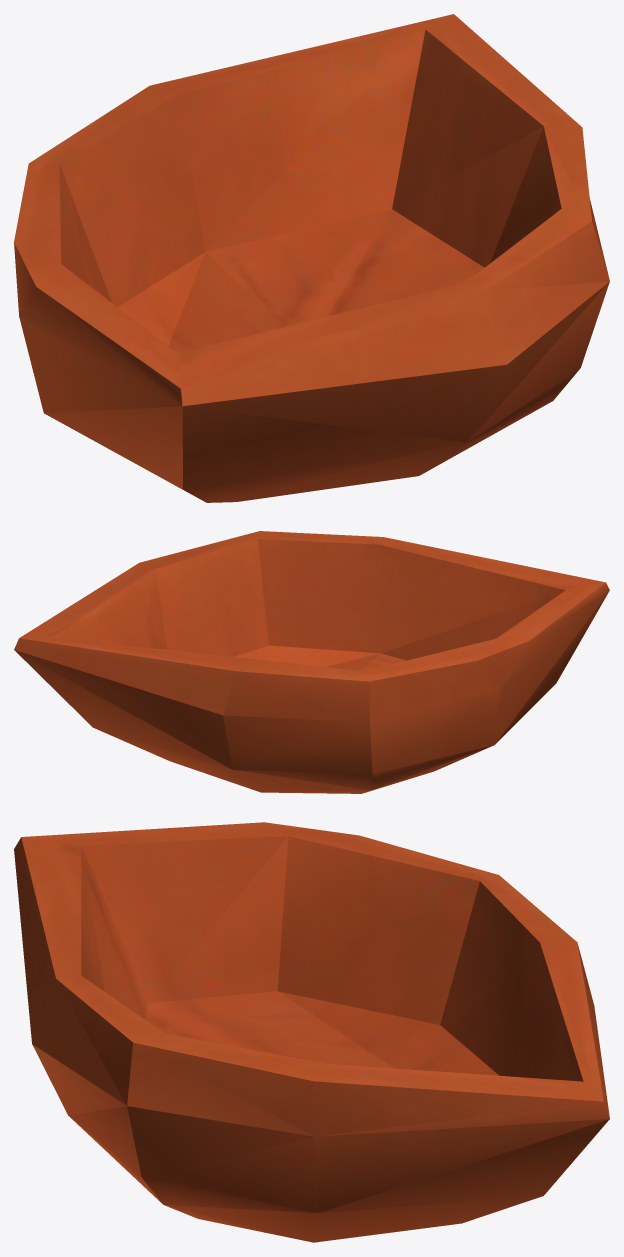
Rendered from diya_clay_09.glb.
3 renders of one model, top to bottom at view 1: azimuth 30°, elevation 25°; view 2: azimuth 150°, elevation 25°; view 3: azimuth 270°, elevation 25°, orthographic. The views are drawn at different scales.
Parts seen in each view (by area): view 1: diya_mesh; view 2: diya_mesh; view 3: diya_mesh.
Boxes of the visible parts, bbox=[...] form: diya_mesh: bbox=[14, 14, 609, 502]; diya_mesh: bbox=[14, 531, 609, 793]; diya_mesh: bbox=[14, 822, 609, 1242].
Size of the model in its own units: 0.2627 by 0.0942 by 0.2417.
Materials: 1 (1 with a texture image).
